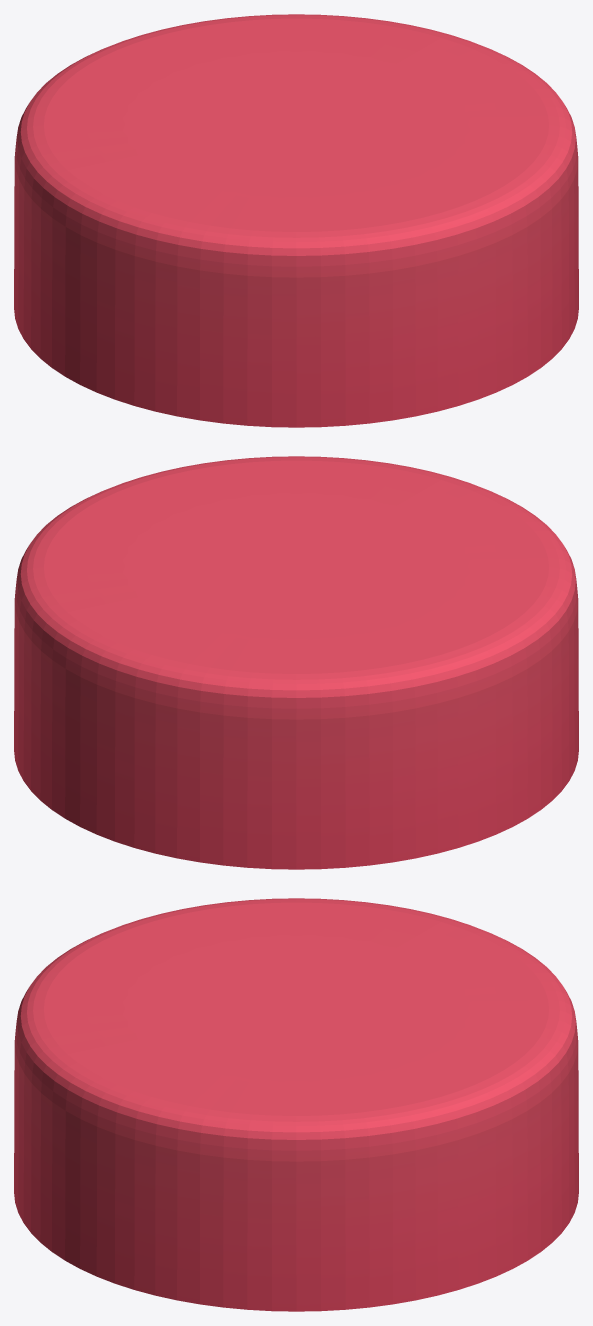
File: cake07.FBX
3 renders of one model, top to bottom at view 1: azimuth 30°, elevation 25°; view 2: azimuth 150°, elevation 25°; view 3: azimuth 270°, elevation 25°, orthographic.
Visible parts, largest first — view 1: cake07; view 2: cake07; view 3: cake07.
Boxes of the visible parts, left/top/right/bottom form: cake07: left=14, top=14, right=578, bottom=427; cake07: left=14, top=456, right=578, bottom=869; cake07: left=14, top=898, right=578, bottom=1311.
Bounding box in the file's own units: 0.0193 × 0.00693 × 0.0193.
